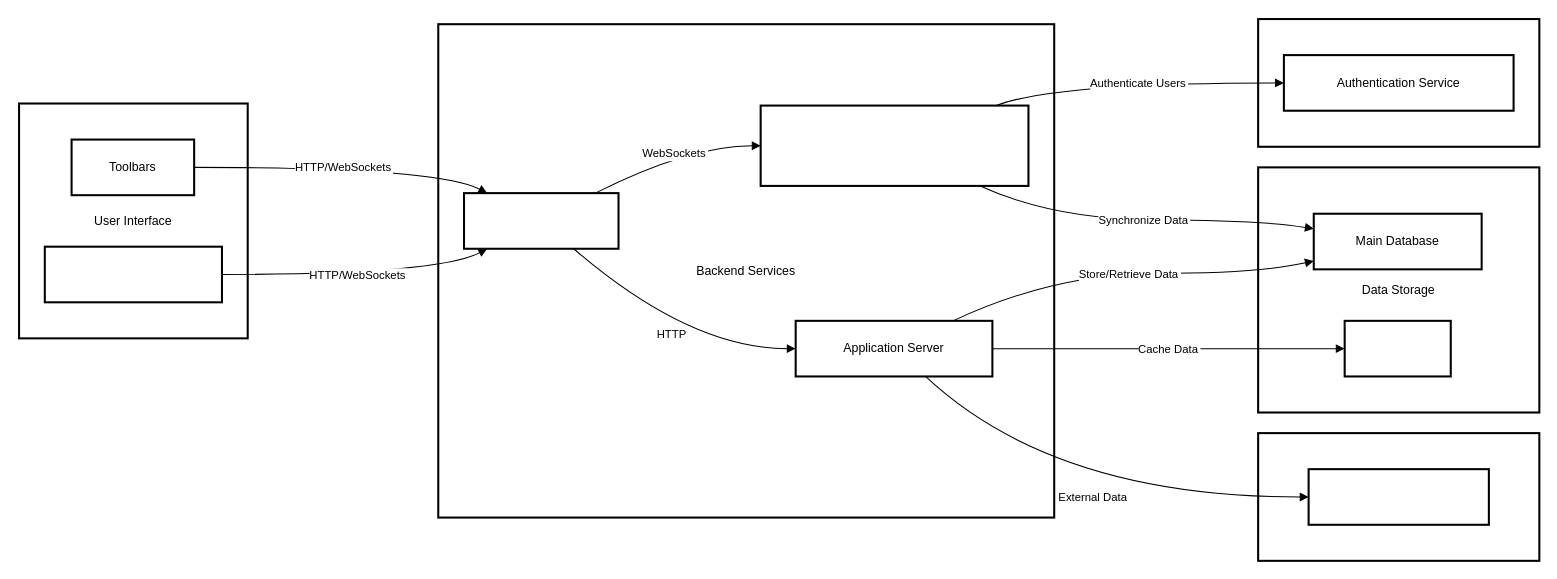
Image size: 1557x579. Some labels were removed from this diagram. The centre of each missing label's shape, as x and y in pixels:
API Gateway: (x=540, y=220)
Cache: (x=1397, y=348)
Drawing Canvas: (x=132, y=274)
Real-time Collaboration Server: (x=894, y=145)
Third-party APIs: (x=1398, y=496)
